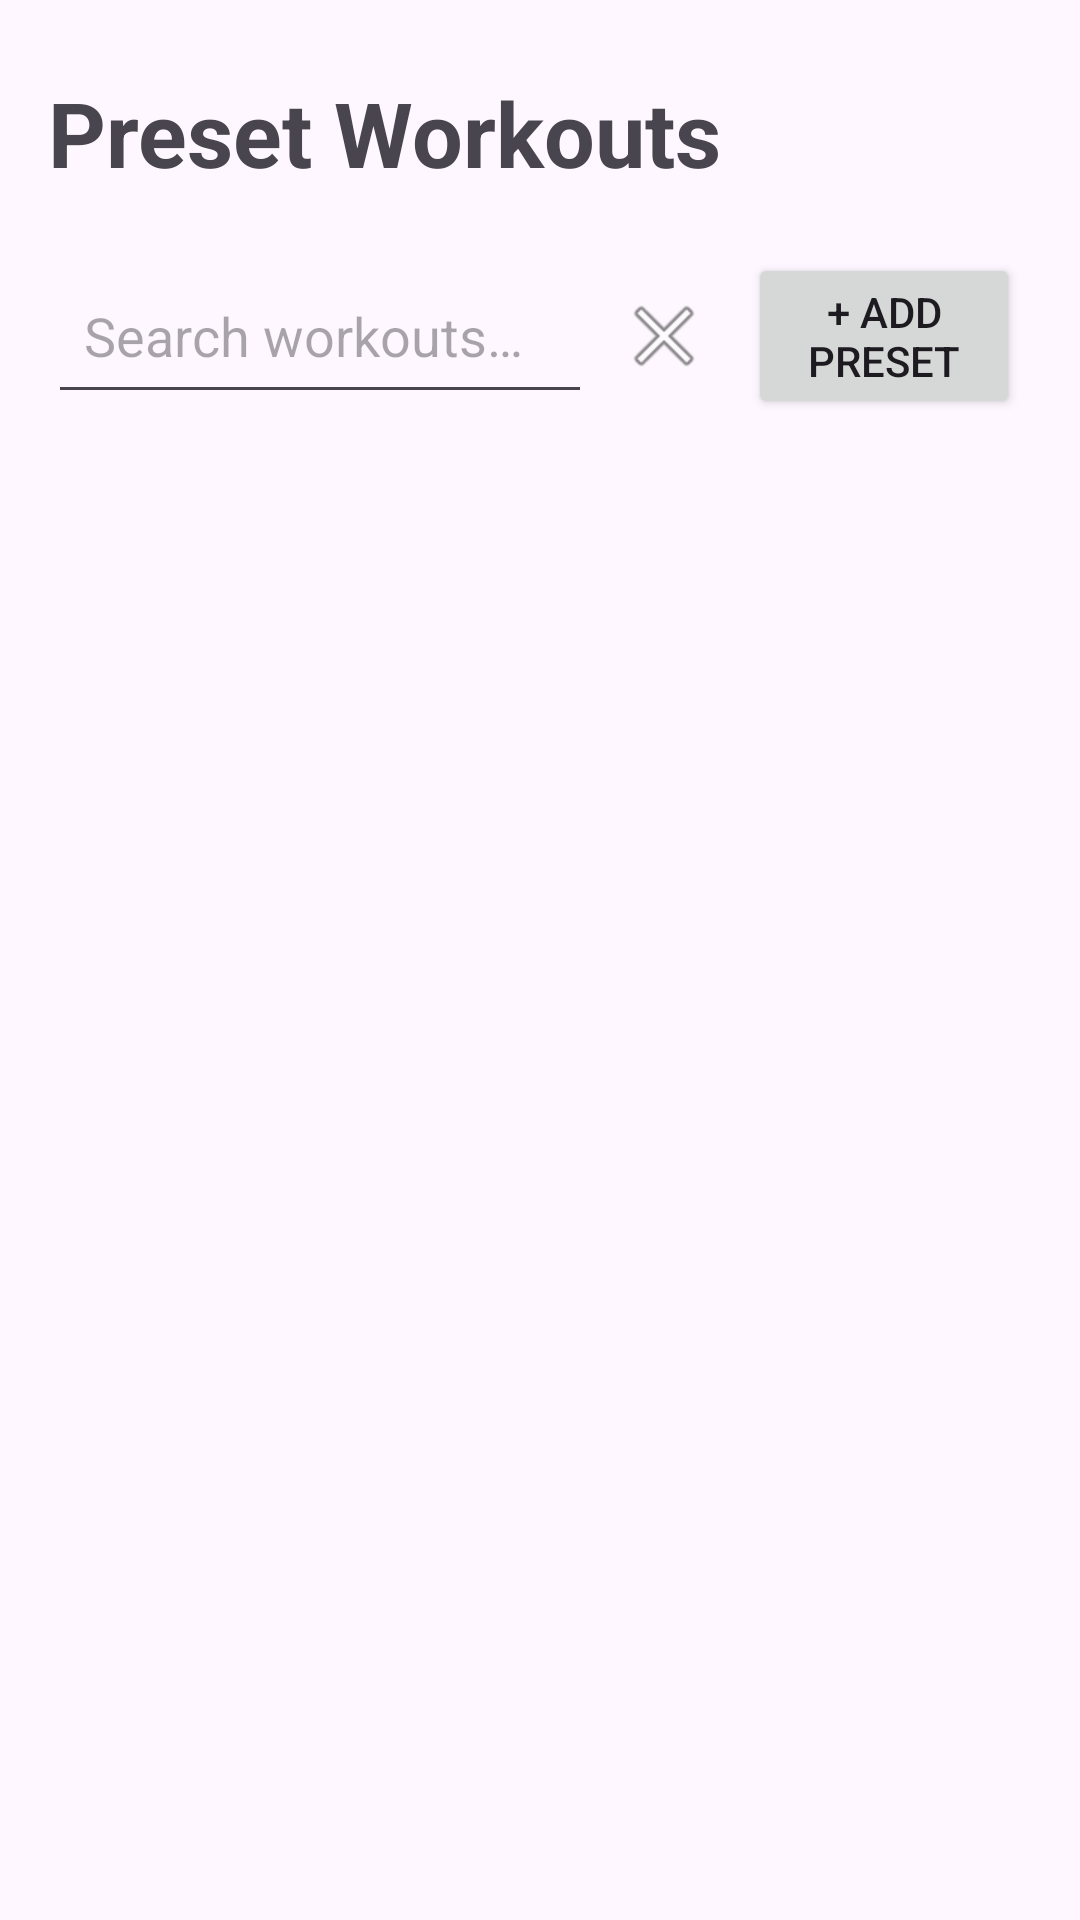

Named icons in this screenshot (1080 × 1920) and their bounding boxes, BBox(x1, y1, x2, y2):
Clear search: BBox(634, 306, 694, 366)
